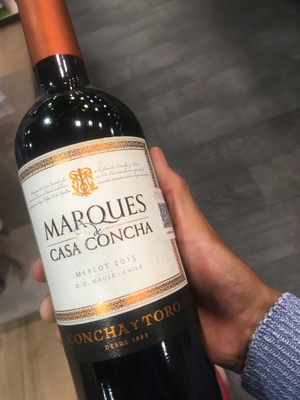marques de casa concha merlot: (10, 5, 227, 400)
